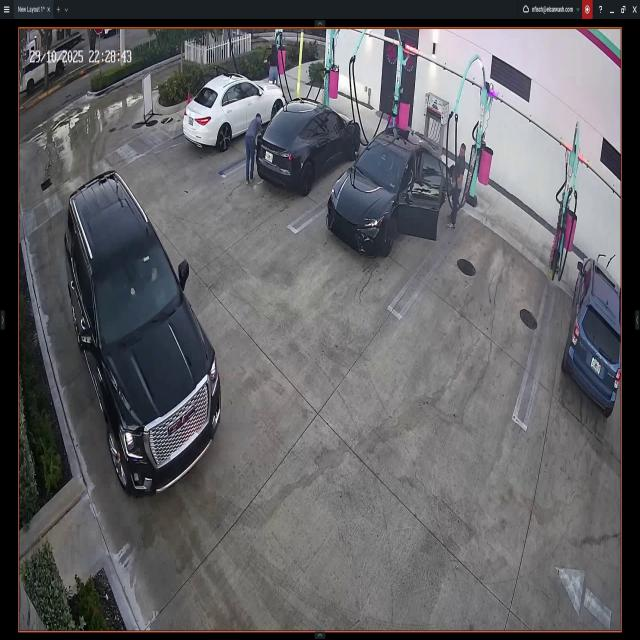Car: (64, 171, 221, 494), (327, 126, 453, 263), (562, 249, 620, 421), (260, 99, 360, 193), (184, 76, 286, 146)
